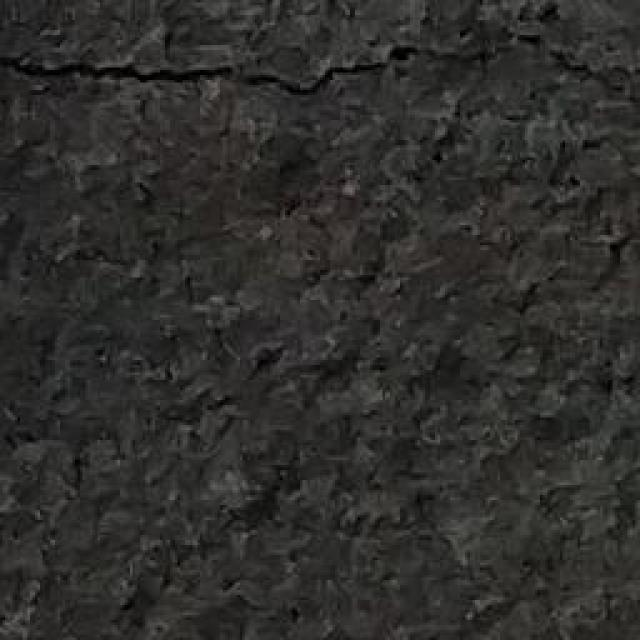Rippled: (5, 142, 640, 640)
Transverse: (0, 22, 640, 124)
